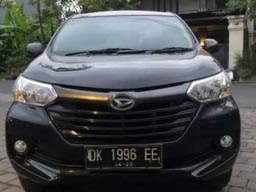plat: (87, 146, 164, 160)
